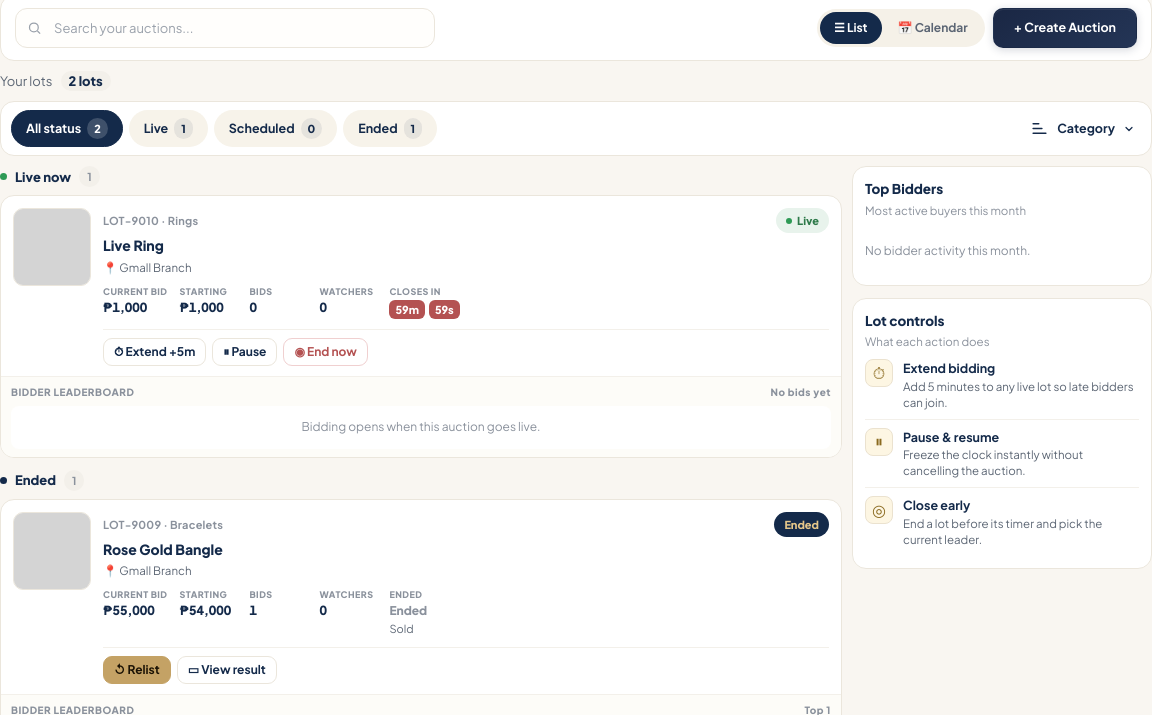
Relist opens 2-step wizard; success auto-closes, filters Scheduled, shows new lot
This screenshot has width=1152, height=715.
Check: the text "Rose Gold Bangle" is shown, box left=103, top=540, right=223, bottom=558
Click the button "↺ Relist" at (137, 670), box left=103, top=656, right=171, bottom=684
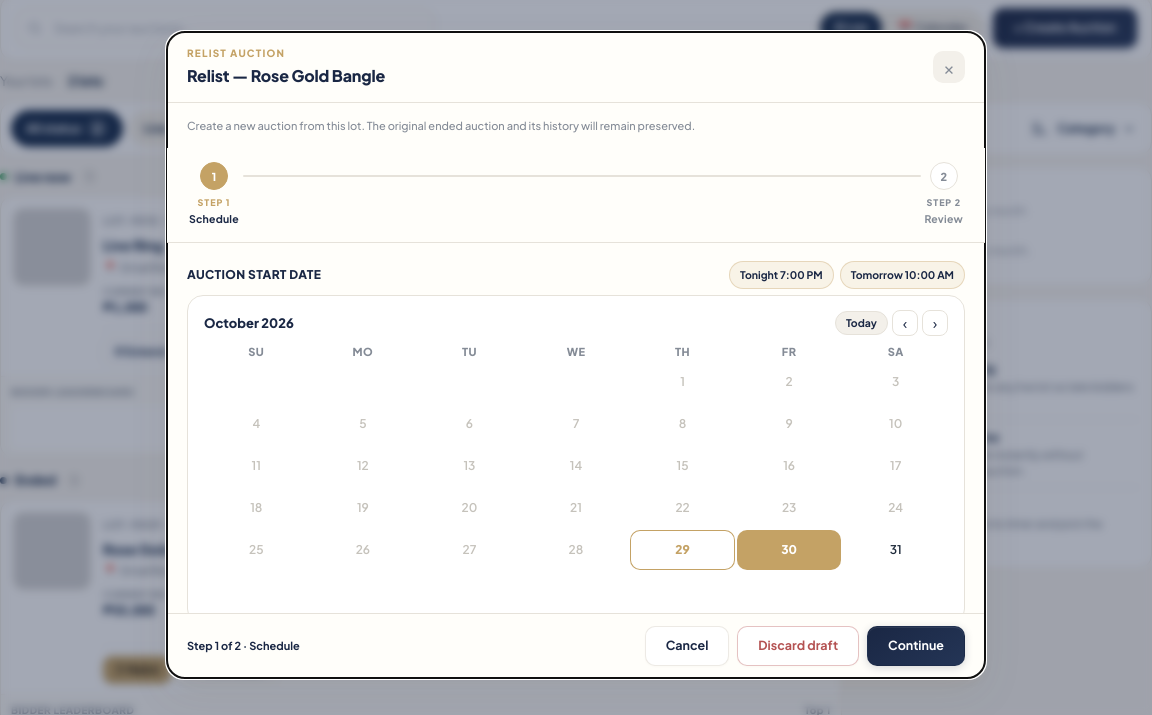
Check: the text "Relist auction" is shown, box left=187, top=47, right=285, bottom=59
Check: the text "Schedule" is shown, box left=189, top=211, right=239, bottom=228
Check: the text "Review" is shown, box left=924, top=211, right=963, bottom=228
Click the button "Continue" at (916, 646), box left=867, top=626, right=965, bottom=666
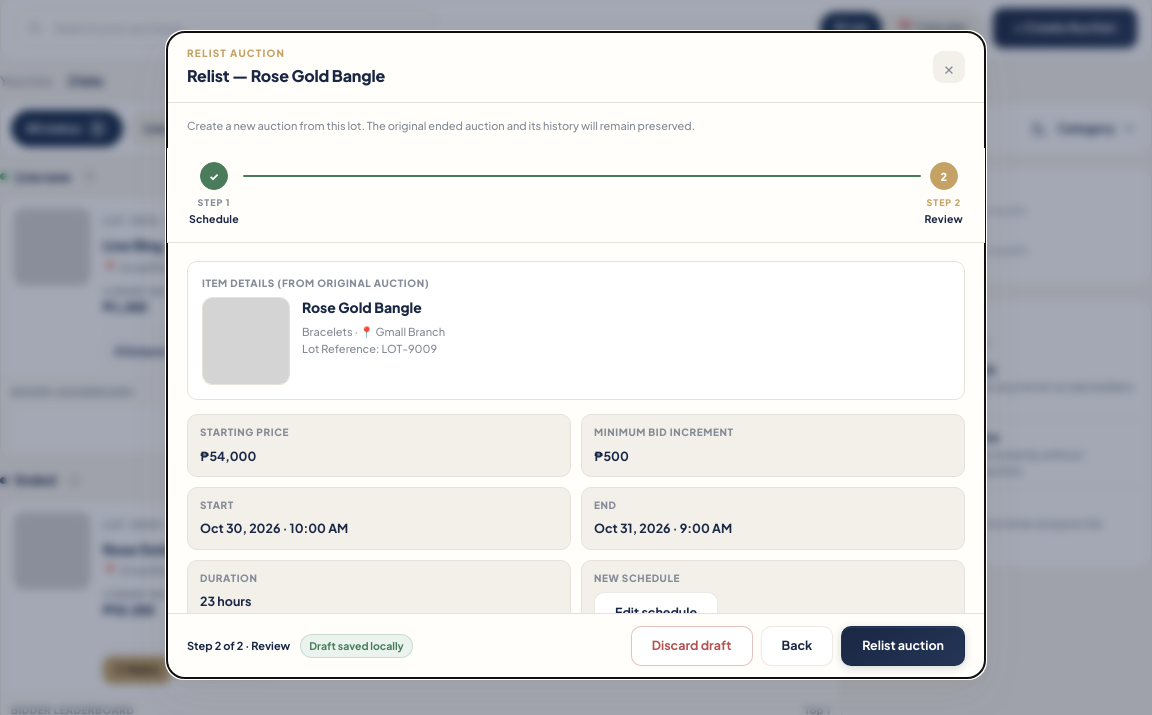
Check: the text "Minimum Bid Increment" is shown, box left=594, top=426, right=734, bottom=438
Check: the text "₱54,000" is shown, box left=200, top=448, right=256, bottom=464
Check: the text "₱500" is shown, box left=594, top=448, right=629, bottom=464
Click the button "Relist auction" at (903, 646), box left=841, top=626, right=965, bottom=666
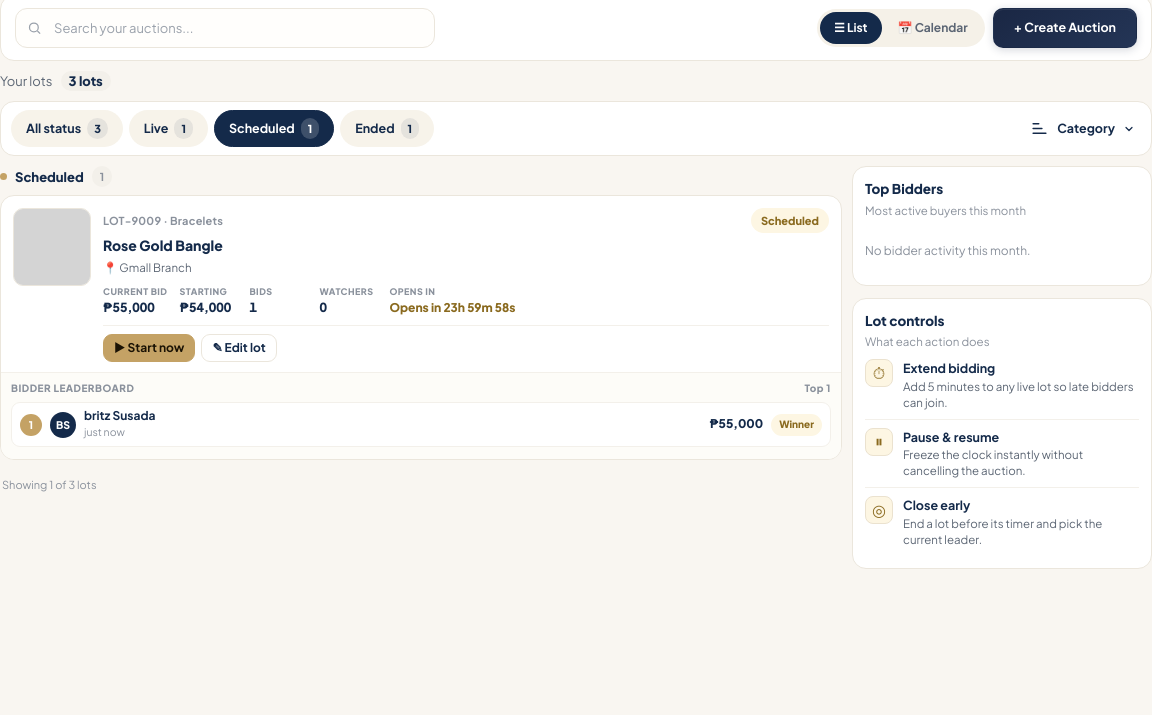
Check: the dialog is gone
Check: the tab "Scheduled 1" is shown, box left=214, top=110, right=334, bottom=147
Check: the tab "All status 3" is shown
Click the tab "All status 3" at (67, 129), box left=11, top=110, right=123, bottom=147
(page scrolled)
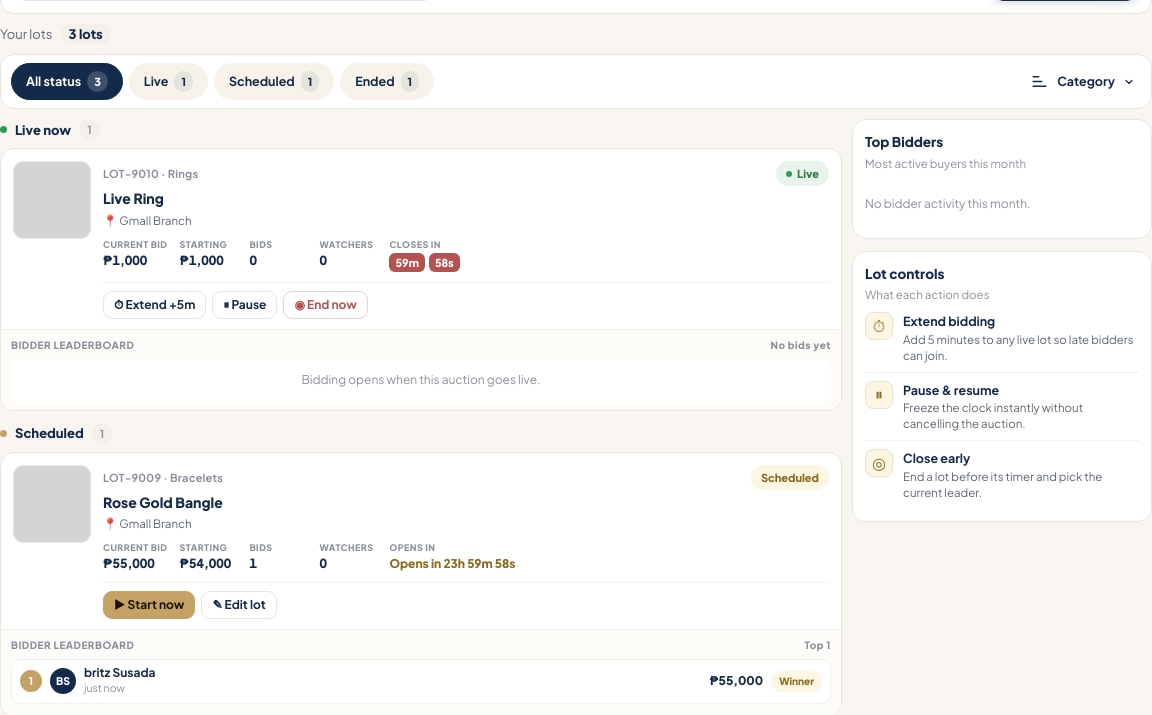
Check: the text "Rose Gold Bangle" is shown 2 times
